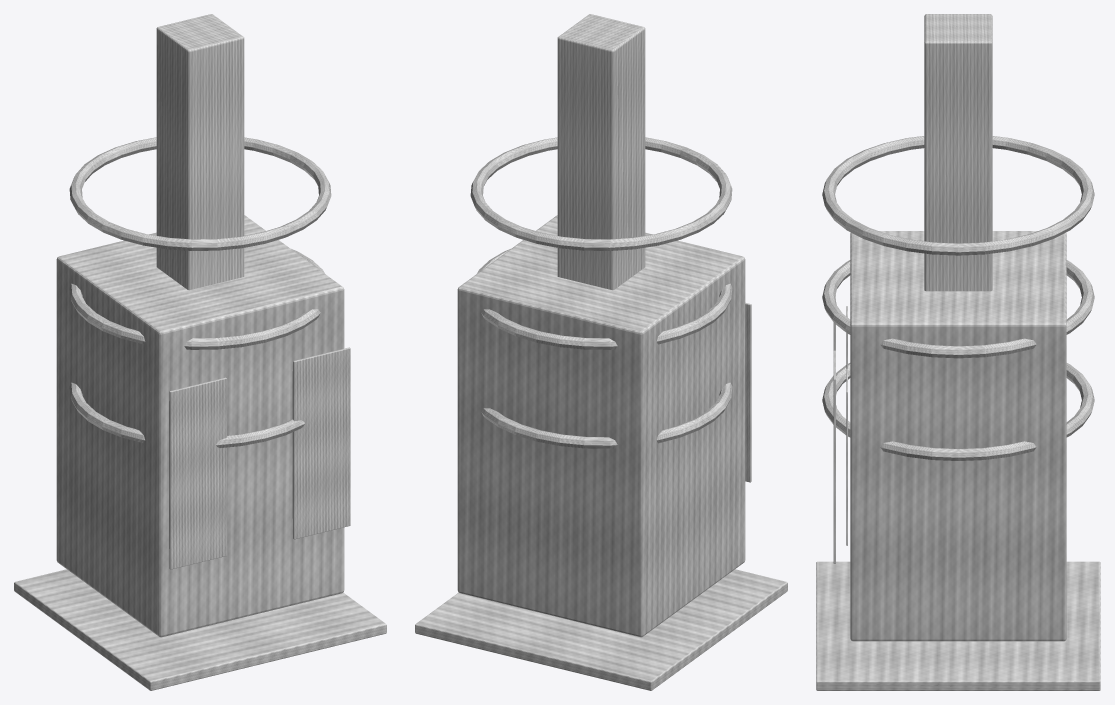
The model's file is space-elevator_variant_c.glb.
3 renders of one model, left to right at view 1: azimuth 30°, elevation 25°; view 2: azimuth 150°, elevation 25°; view 3: azimuth 270°, elevation 25°, orthographic. The views are drawn at different scales.
Parts seen in each view (by area): view 1: Main structural housing.002, Central elevator spine.003, Foundation.002, Protective frame.004, Protective frame.005, Elevator collar.009, Elevator collar.008, Elevator collar.007; view 2: Main structural housing.002, Central elevator spine.003, Foundation.002, Elevator collar.009, Elevator collar.008, Elevator collar.007, Protective frame.004; view 3: Main structural housing.002, Foundation.002, Central elevator spine.003, Elevator collar.009, Elevator collar.008, Elevator collar.007, Protective frame.005.
Boxes of the visible parts, bbox=[...] form: Main structural housing.002: bbox=[56, 215, 344, 637]; Central elevator spine.003: bbox=[156, 14, 244, 290]; Foundation.002: bbox=[14, 569, 386, 690]; Protective frame.004: bbox=[169, 377, 226, 569]; Protective frame.005: bbox=[293, 347, 350, 539]; Elevator collar.009: bbox=[69, 137, 331, 250]; Elevator collar.008: bbox=[69, 249, 324, 349]; Elevator collar.007: bbox=[69, 382, 305, 447]; Main structural housing.002: bbox=[457, 215, 745, 637]; Central elevator spine.003: bbox=[557, 14, 645, 290]; Foundation.002: bbox=[415, 569, 787, 690]; Elevator collar.009: bbox=[470, 137, 732, 250]; Elevator collar.008: bbox=[477, 249, 732, 349]; Elevator collar.007: bbox=[481, 382, 732, 448]; Protective frame.004: bbox=[745, 302, 751, 482]; Main structural housing.002: bbox=[850, 231, 1066, 641]; Foundation.002: bbox=[816, 561, 1100, 690]; Central elevator spine.003: bbox=[924, 14, 992, 291]; Elevator collar.009: bbox=[822, 136, 1094, 255]; Elevator collar.008: bbox=[822, 260, 1094, 358]; Elevator collar.007: bbox=[822, 363, 1094, 460]; Protective frame.005: bbox=[833, 350, 835, 563].
Size of what is drawn, in the model's own units: 11.04 by 25.85 by 11.04.
Materials: 5 (5 with a texture image).
